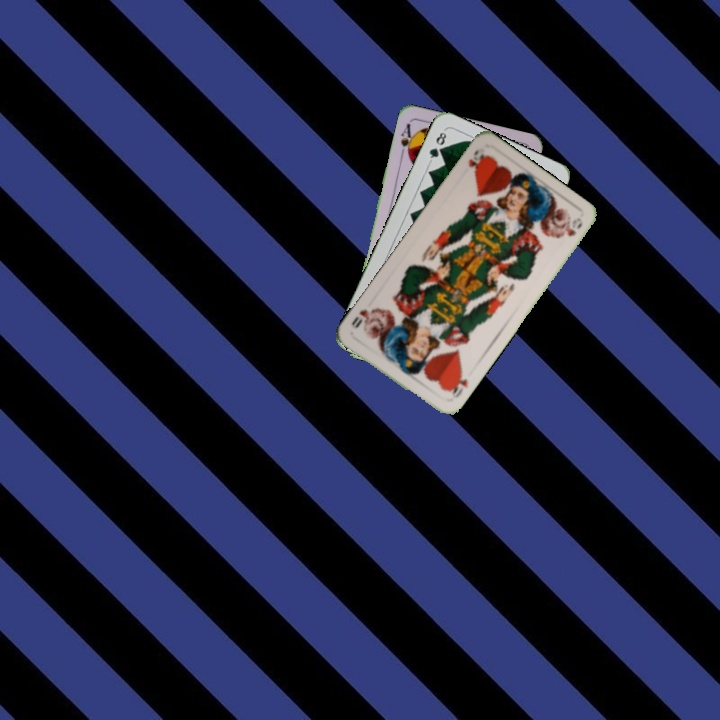G8: (425, 126, 449, 165)
HO: (444, 367, 471, 401), (464, 145, 489, 175)
SA: (396, 119, 417, 161)
